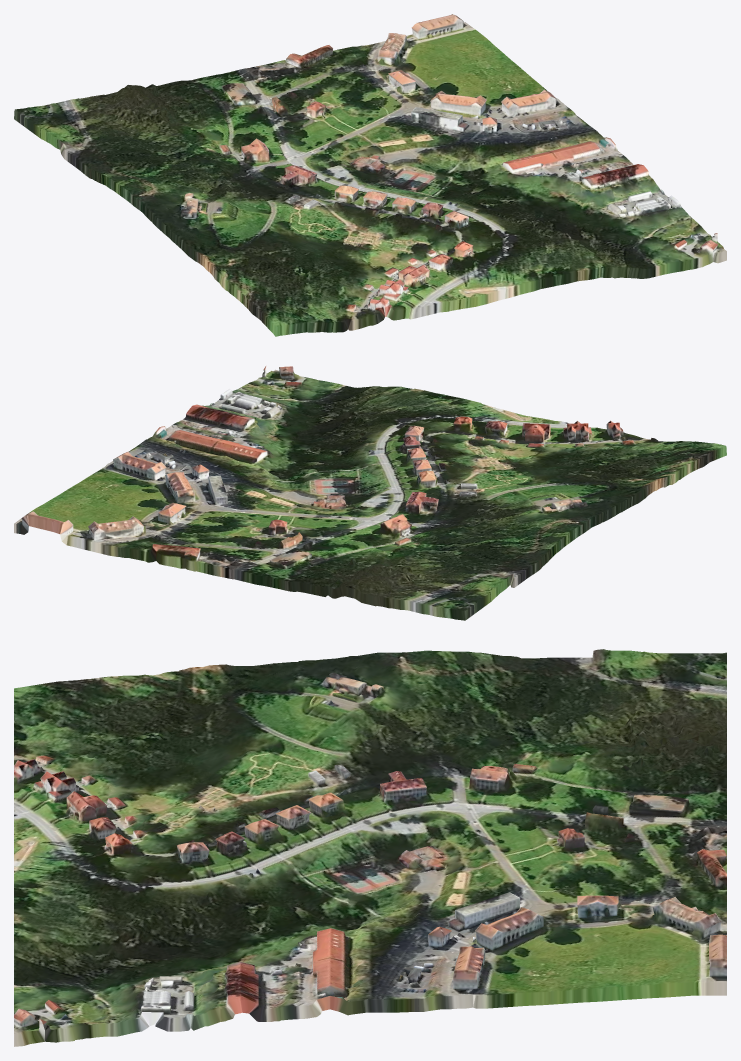
The model's file is z16-10472-25325-h0-yup-uvflip-v3-world.glb.
The picture shows the model from 3 angles, top to bottom: view 1: azimuth 30°, elevation 25°; view 2: azimuth 150°, elevation 25°; view 3: azimuth 270°, elevation 25°; orthographic projection. The views are drawn at different scales.
Size of the model in its own units: 483 by 74.24 by 485.
1 material, 1 textured.
